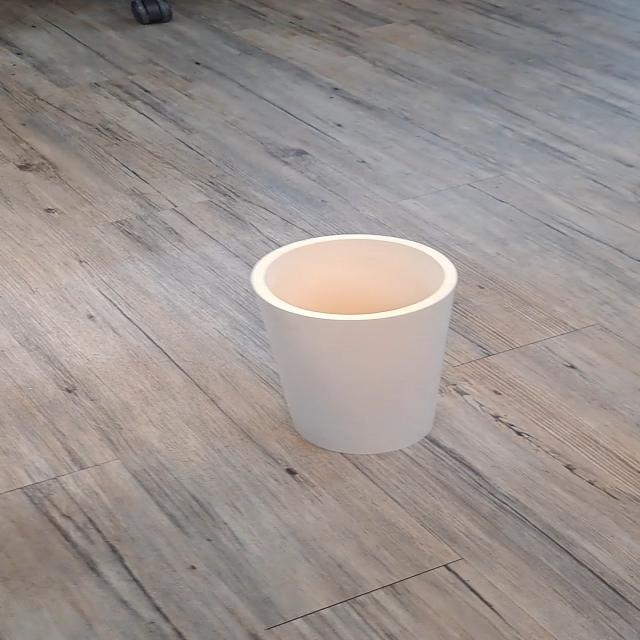CORAL: (199, 209, 523, 486)
